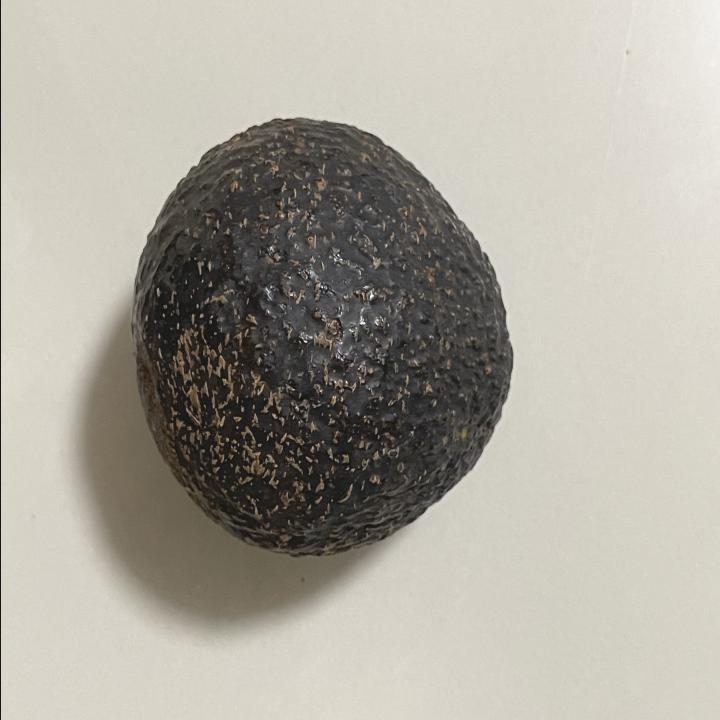Level3: (124, 102, 520, 568)
